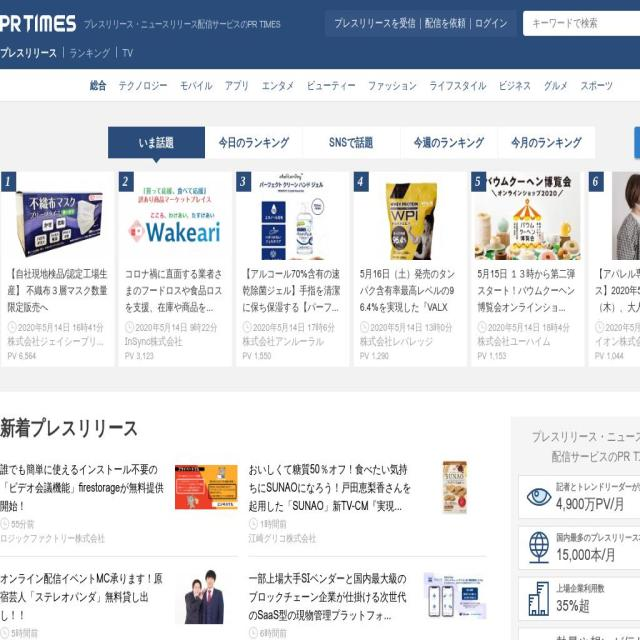button: (510, 416, 640, 640), (236, 172, 350, 366), (1, 172, 114, 366), (119, 172, 232, 366), (354, 172, 467, 366), (472, 172, 584, 366), (0, 460, 238, 545), (249, 460, 486, 545), (0, 569, 238, 640), (249, 569, 486, 640), (589, 172, 640, 366), (0, 531, 105, 546), (249, 531, 316, 546), (634, 127, 640, 158)
field: (523, 11, 640, 36)
heading: (0, 417, 486, 439), (0, 460, 166, 515), (0, 569, 166, 624), (249, 460, 414, 515), (249, 569, 414, 624), (532, 426, 640, 446), (84, 18, 280, 29), (551, 446, 640, 466)
image: (236, 172, 350, 272), (1, 172, 114, 272), (119, 172, 232, 272), (354, 172, 467, 272), (472, 172, 584, 272), (589, 172, 640, 272), (175, 460, 237, 516), (424, 460, 486, 516), (175, 569, 237, 625), (424, 569, 486, 625), (107, 127, 205, 158), (0, 14, 76, 34), (522, 480, 556, 514), (522, 531, 556, 565), (522, 582, 556, 616), (522, 636, 556, 640)
link: (125, 266, 226, 320), (360, 266, 461, 320), (8, 266, 108, 320), (243, 266, 343, 320), (478, 266, 578, 320), (595, 266, 640, 320), (0, 518, 166, 530), (0, 627, 166, 639), (249, 518, 414, 530), (249, 627, 414, 639), (8, 332, 113, 350), (556, 543, 640, 565), (556, 493, 640, 514), (242, 332, 324, 350), (360, 332, 433, 350), (478, 332, 550, 350), (334, 15, 416, 30), (125, 322, 226, 334), (360, 322, 461, 334), (8, 322, 108, 334), (243, 322, 343, 334), (478, 322, 578, 334), (125, 336, 226, 347), (360, 336, 461, 347), (8, 336, 108, 347), (243, 336, 343, 347), (478, 336, 578, 347), (556, 480, 640, 493), (556, 531, 640, 544), (556, 594, 604, 616), (125, 332, 183, 350), (125, 351, 226, 361), (360, 351, 461, 361), (8, 351, 108, 361), (243, 351, 343, 361), (478, 351, 578, 361), (429, 77, 486, 94), (306, 77, 356, 94), (119, 77, 168, 94), (368, 77, 417, 94), (595, 332, 640, 350), (556, 632, 640, 640), (0, 47, 57, 58), (556, 582, 604, 595), (425, 15, 466, 30), (475, 14, 507, 32), (180, 77, 212, 94), (262, 77, 294, 94), (499, 77, 531, 94), (581, 77, 613, 94), (595, 322, 640, 334), (595, 336, 640, 347), (69, 47, 110, 58), (595, 351, 640, 361), (225, 77, 249, 94), (544, 77, 568, 94), (90, 77, 106, 94), (123, 44, 133, 62)
text: (107, 127, 205, 158), (205, 127, 303, 158), (302, 127, 400, 158), (400, 127, 498, 158), (497, 127, 595, 158), (0, 530, 166, 545), (249, 530, 414, 545), (125, 321, 226, 333), (360, 321, 461, 333), (8, 321, 108, 333), (243, 321, 343, 333), (478, 321, 578, 333), (125, 351, 226, 361), (360, 351, 461, 361), (8, 351, 108, 361), (243, 351, 343, 361), (478, 351, 578, 361), (595, 321, 640, 333), (595, 351, 640, 361), (118, 172, 134, 192), (236, 172, 252, 192), (588, 172, 604, 192), (2, 172, 16, 192), (354, 172, 368, 192), (472, 172, 486, 192), (0, 639, 166, 640), (249, 639, 414, 640)
